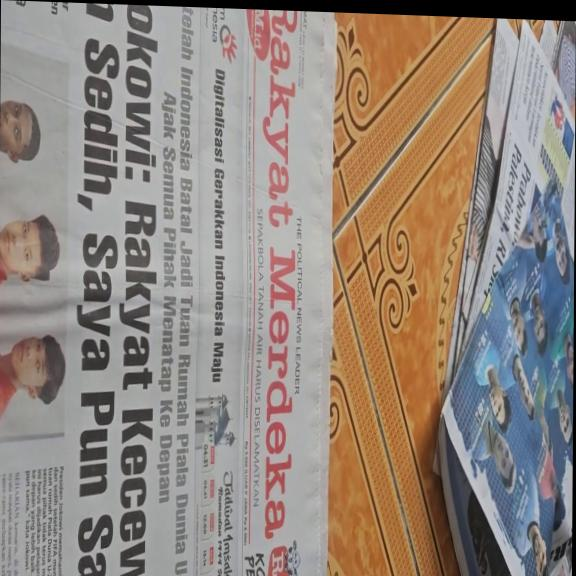Kertas: (0, 3, 323, 576)
